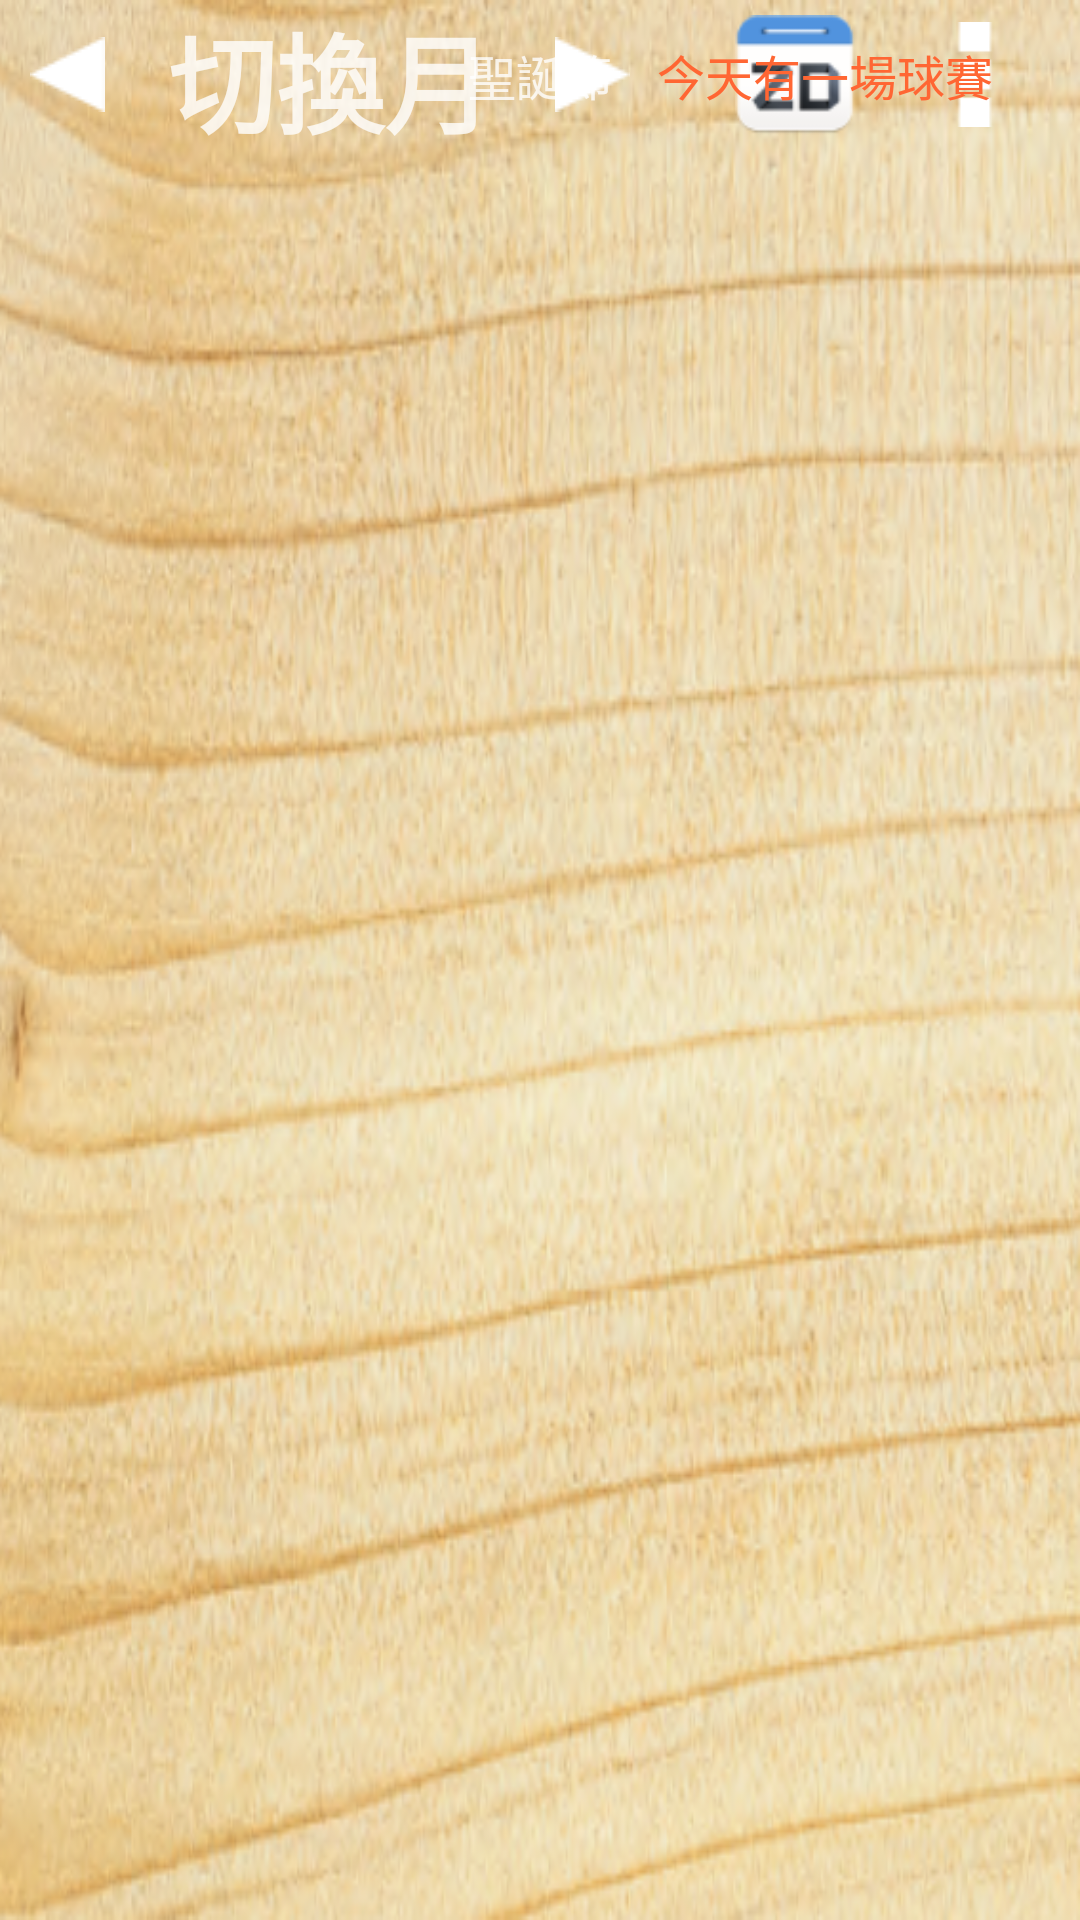

Icon click points for this 1080×1920 phone screenshot, format (x=x, y=y):
next month: (x=592, y=74)
previous month: (x=67, y=74)
return to today: (x=795, y=74)
